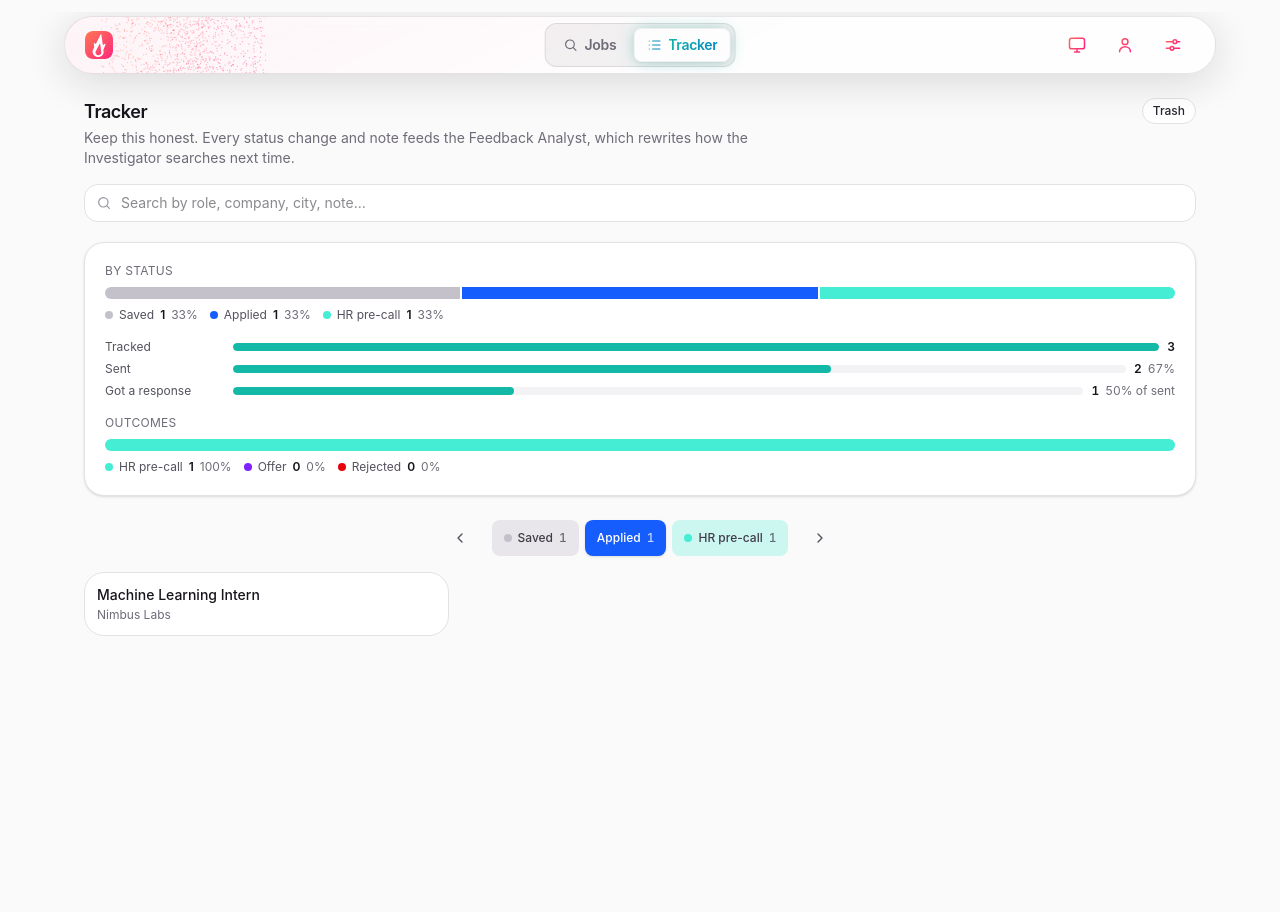
Scenario: the Tracker's search field › says so when nothing matches, and clears back to the whole board
Check: the text "Nimbus Labs" is shown, box top-left (97, 607), bottom-right (171, 622)
Type "zzz" into the search field named "Search applications".
click(640, 203); type("zzz")  # box top-left (84, 184), bottom-right (1196, 222)
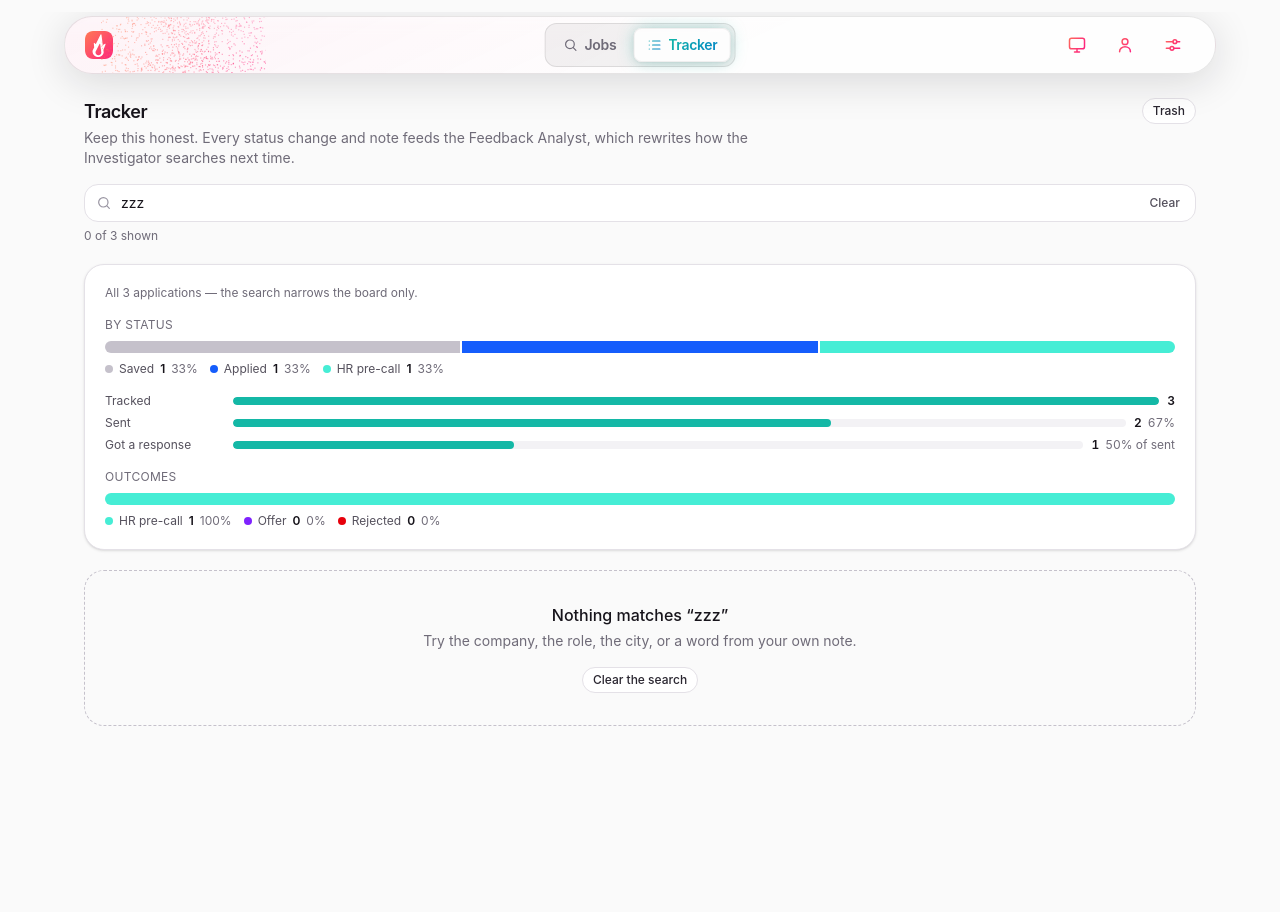
Check: the text "Nothing matches “zzz”" is shown, box top-left (552, 605), bottom-right (728, 625)
Check: the text "0 of 3 shown" is shown, box top-left (84, 228), bottom-right (158, 243)
Click the button "Clear the search".
click(640, 680)  # box top-left (582, 667), bottom-right (698, 693)
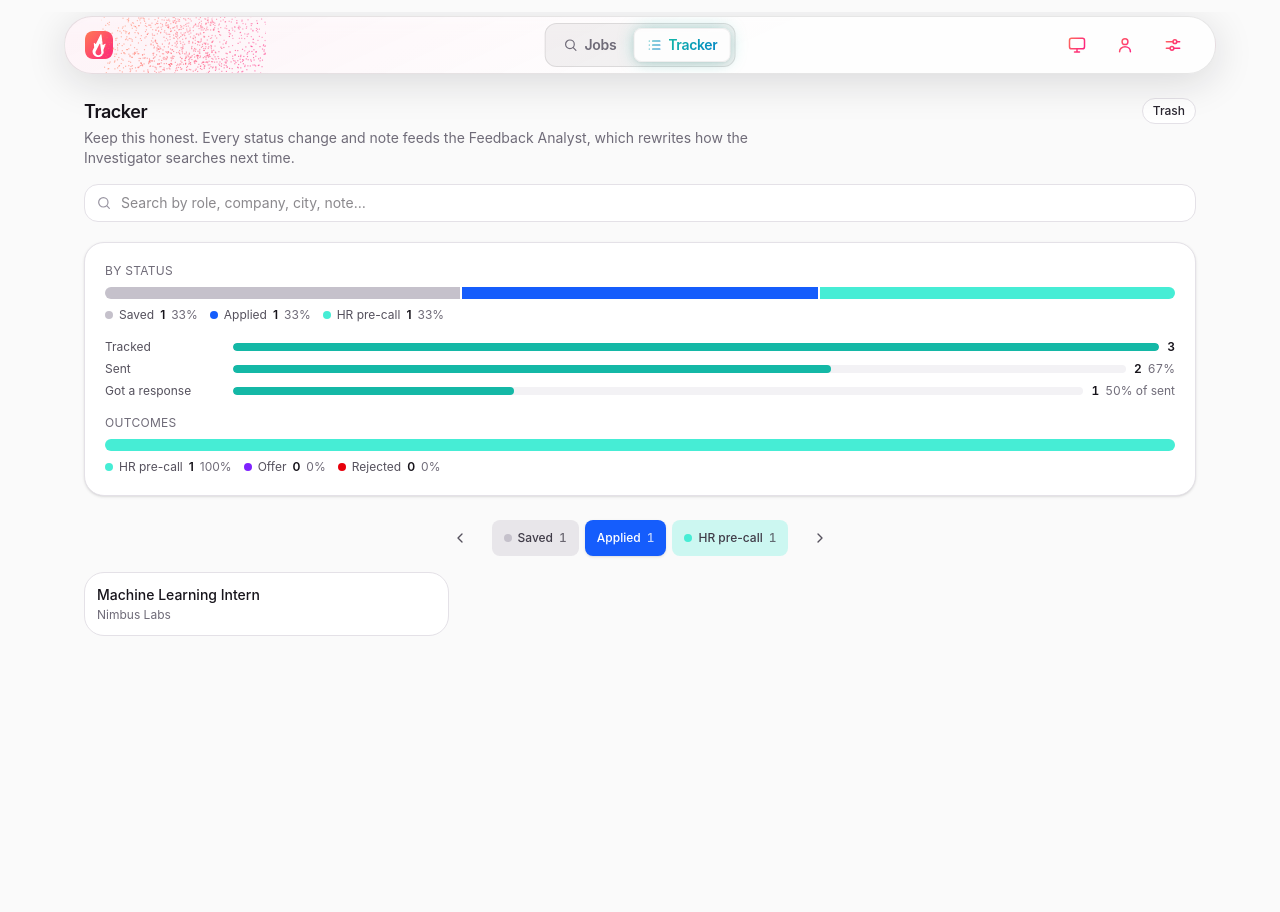
Check: the text "Nimbus Labs" is shown, box top-left (97, 607), bottom-right (171, 622)
Check: the search field named "Search applications" is empty, box top-left (84, 184), bottom-right (1196, 222)
